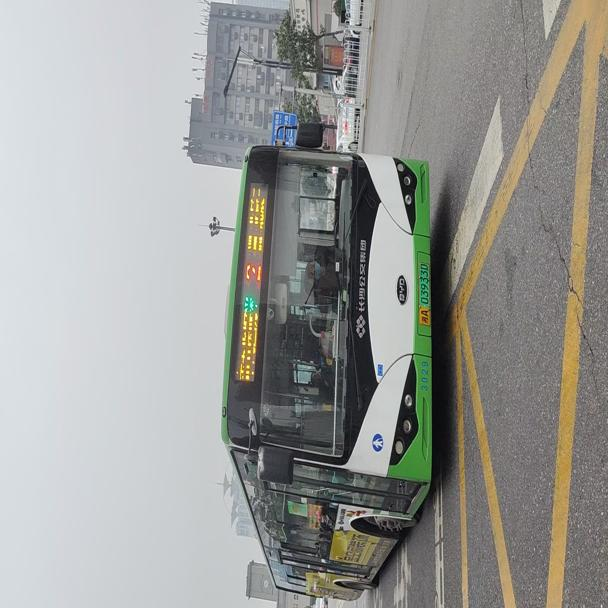bus: (221, 121, 437, 600)
screen: (238, 252, 261, 293)
